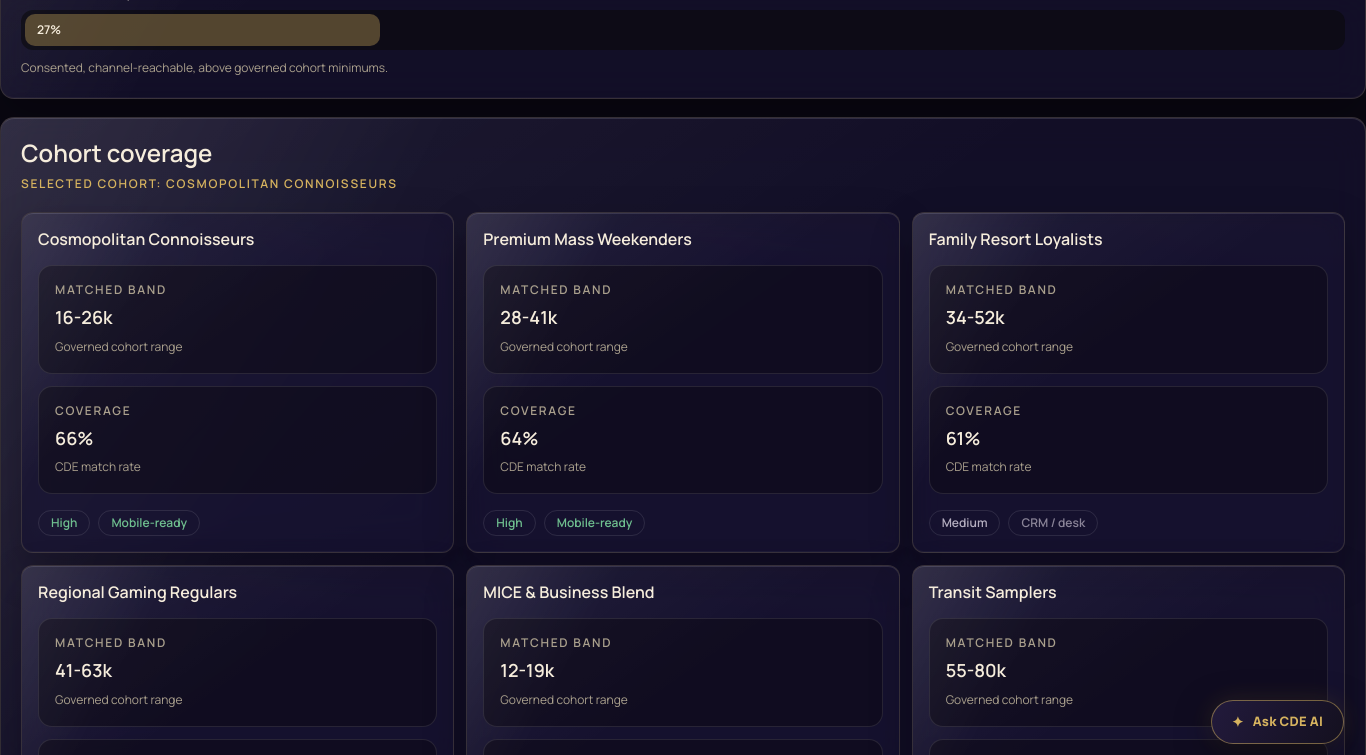
ConstellationRedesignScreen › selects a Guests cohort row and updates the visible cohort context
This screenshot has width=1366, height=755.
(page scrolled)
Click the button named "Select Family Resort Loyalists" at (1128, 382), box top-left (912, 212), bottom-right (1345, 553)
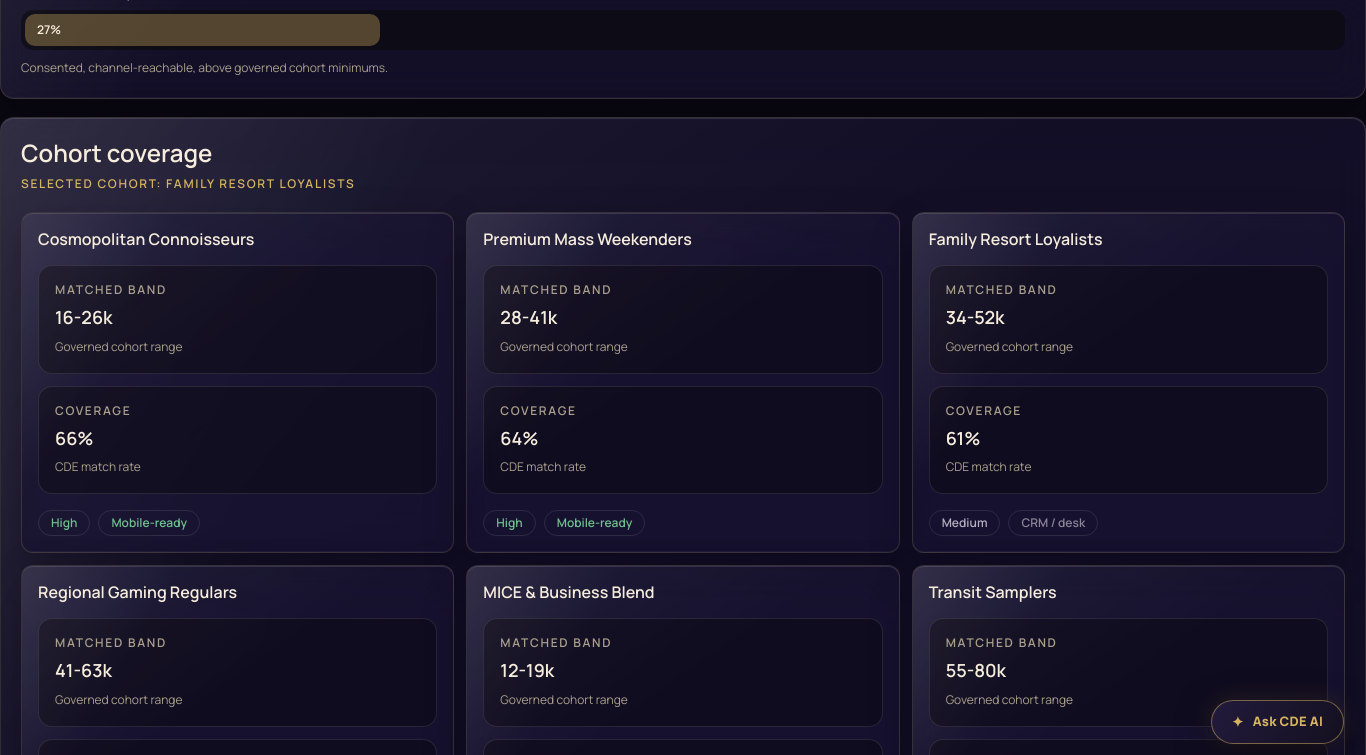
Now the text "Selected cohort: Family Resort Loyalists" is shown, box top-left (21, 175), bottom-right (356, 192)
